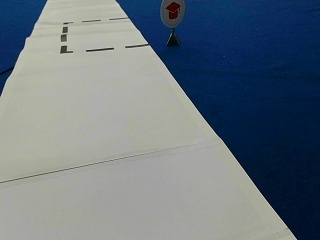school: (159, 1, 185, 26)
